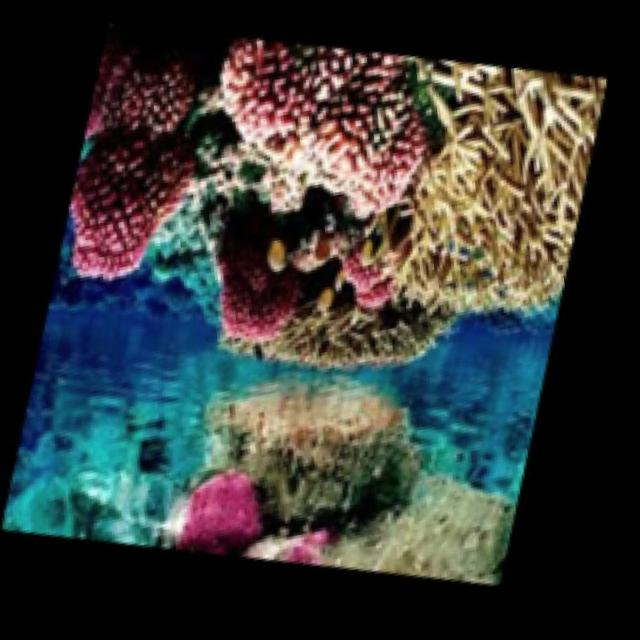Dead Coral: (274, 285, 459, 403)
